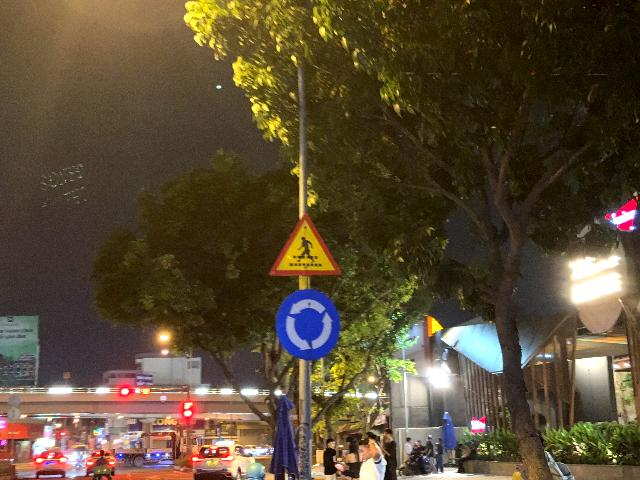duong-nguoi-di-bo-cat-ngang: (269, 212, 341, 276)
noi-giao-nhau-chay-theo-vong-xuyen: (276, 288, 340, 361)
